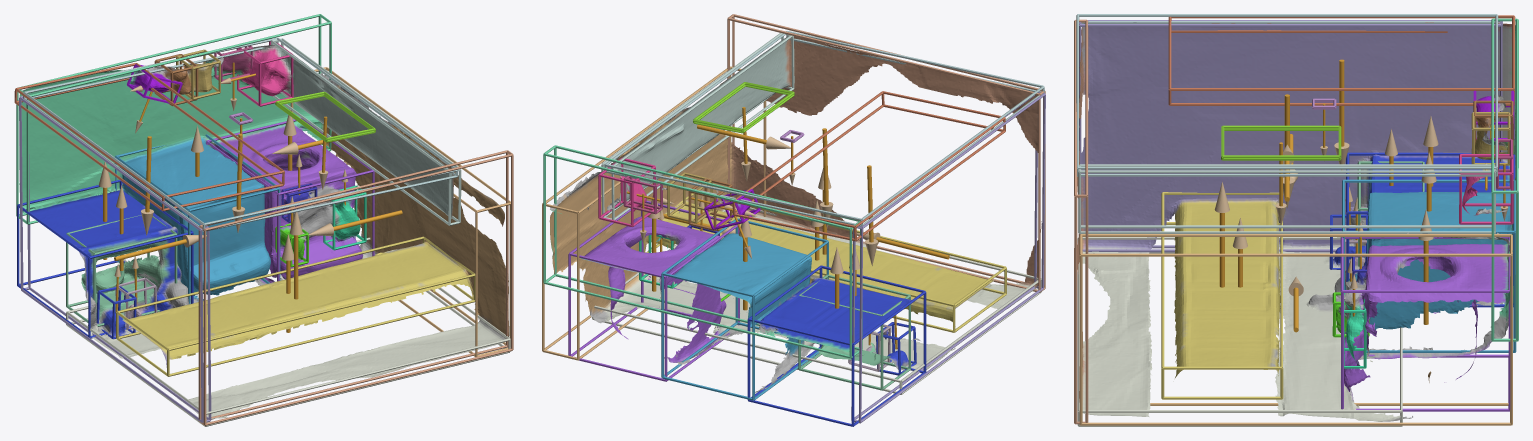
The model's file is scene_00103_00-obb.compressed.gltf.
The picture shows the model from 3 angles, left to right: view 1: azimuth 30°, elevation 25°; view 2: azimuth 150°, elevation 25°; view 3: azimuth 270°, elevation 25°; orthographic projection. The views are drawn at different scales.
Bounding box in the file's own units: 2.66 × 1.66 × 2.81.
